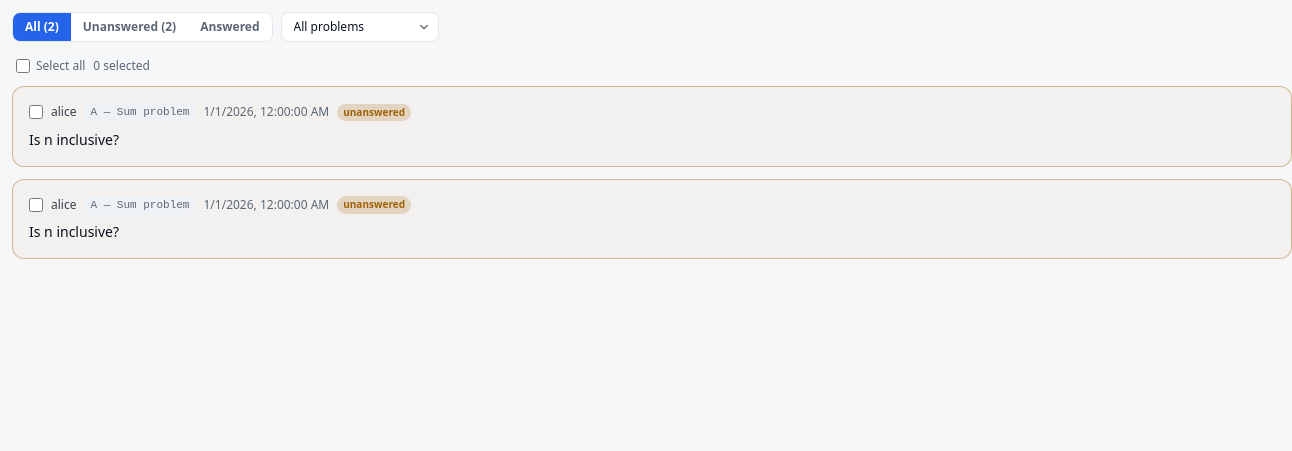
ClarificationsPanel › selects every visible question at once
The width and height of the screenshot is (1292, 451).
Click the checkbox named "Select all visible" at (23, 66), box [16, 59, 30, 73]
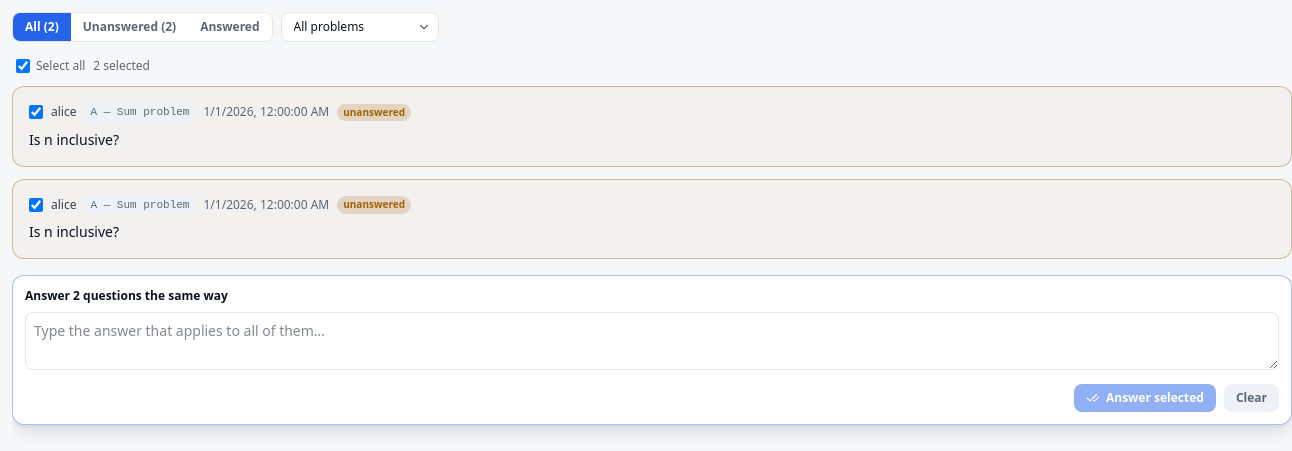
Expected: the text "2 selected" is shown, [93, 58, 150, 74]
